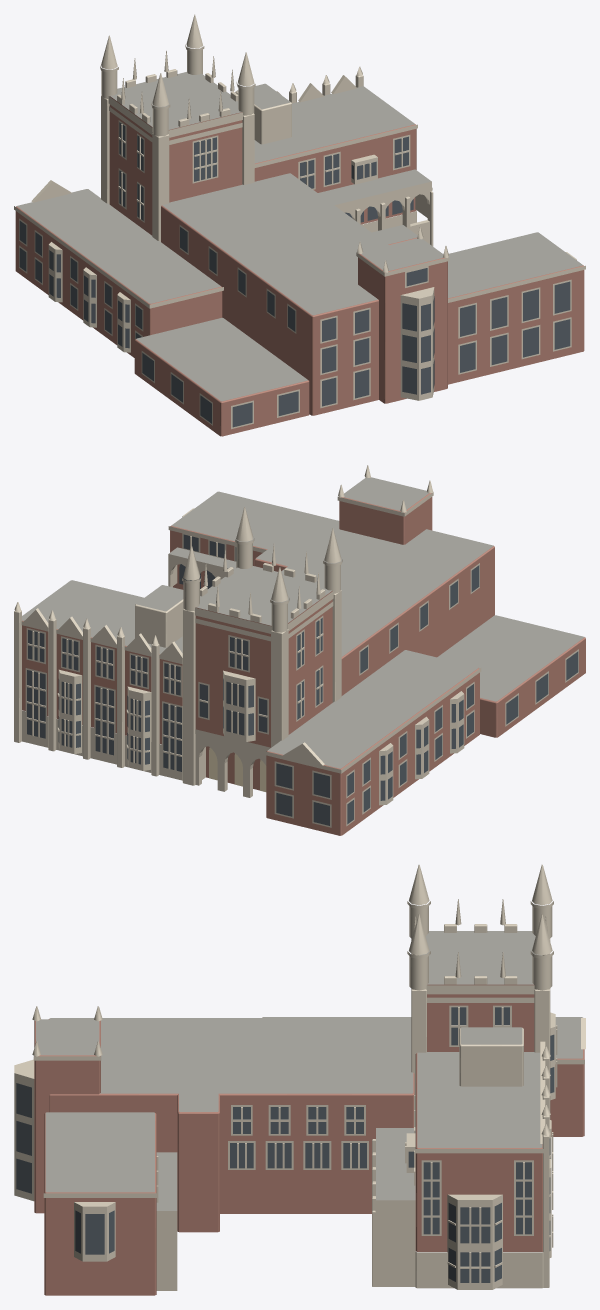
File: la-kerckhoff-hall.glb
3 renders of one model, top to bottom at view 1: azimuth 30°, elevation 25°; view 2: azimuth 150°, elevation 25°; view 3: azimuth 270°, elevation 25°, orthographic. The views are drawn at different scales.
Visible parts, largest first — view 1: Kerckhoff Hall; view 2: Kerckhoff Hall; view 3: Kerckhoff Hall.
Part boxes in pixels (x1=…): Kerckhoff Hall: x1=14, y1=14, x2=585, y2=436; Kerckhoff Hall: x1=14, y1=465, x2=585, y2=835; Kerckhoff Hall: x1=14, y1=864, x2=585, y2=1295.
Size of the model in its own units: 51.51 by 30.5 by 57.6.
